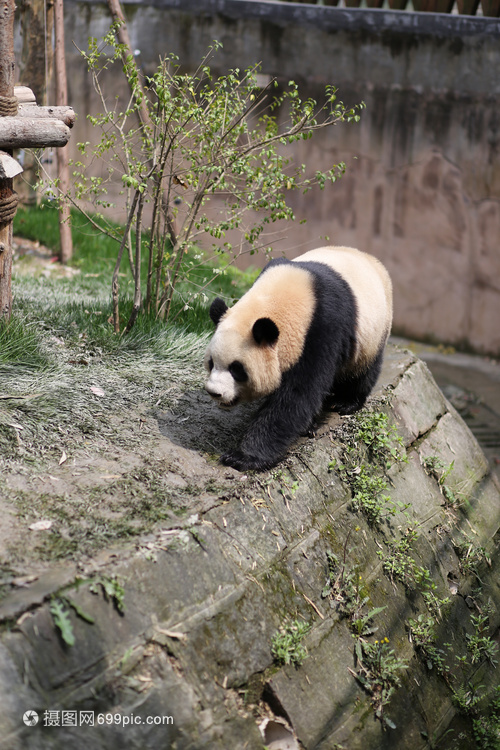panda: (186, 240, 421, 461)
